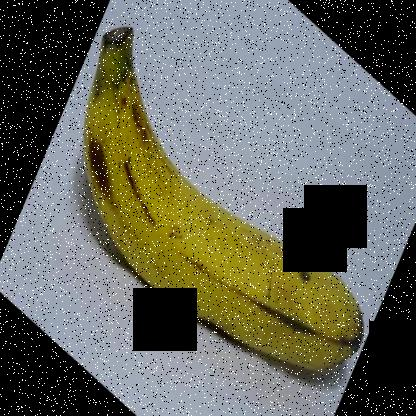ripe: (68, 17, 380, 371)
